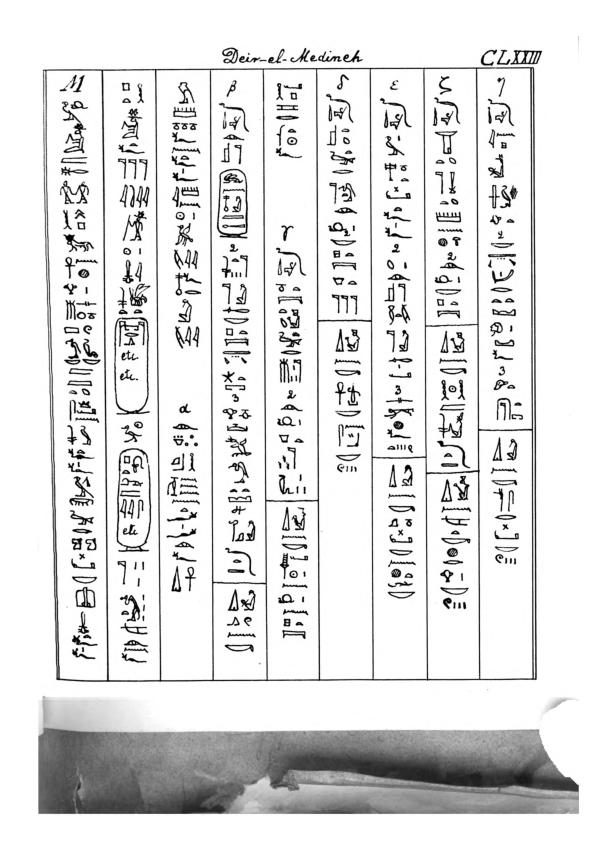circle: (111, 315, 153, 417), (115, 446, 153, 555), (215, 167, 252, 243)
